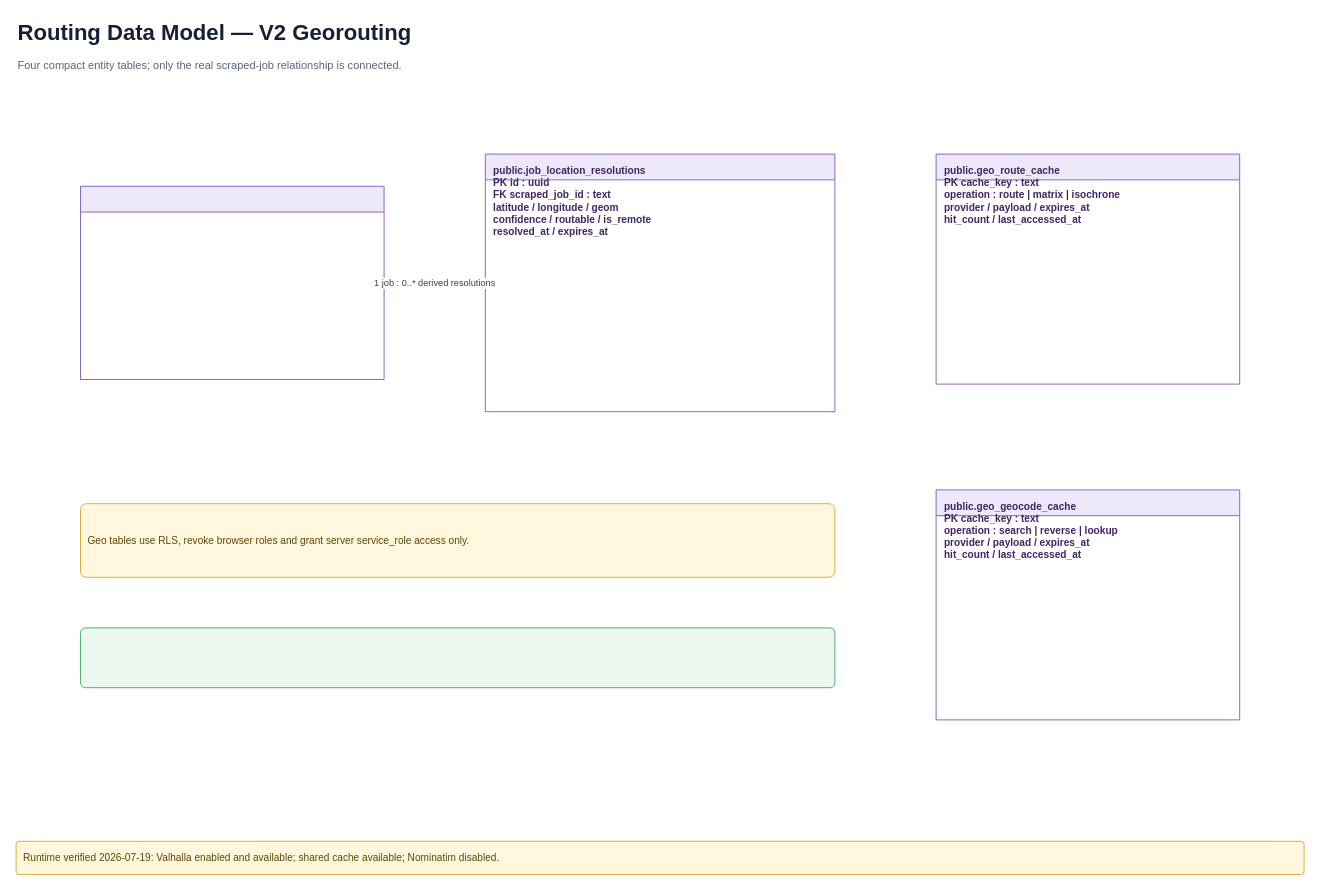
Image size: 1320x891. Some labels were removed from this diagram. Each missing label, with the box of its shape:
public.scraped_jobs PK id : text location : text? remote_type : text?: (80, 185, 384, 380)
Route cache does not persist raw user-location history.: (80, 627, 835, 688)
